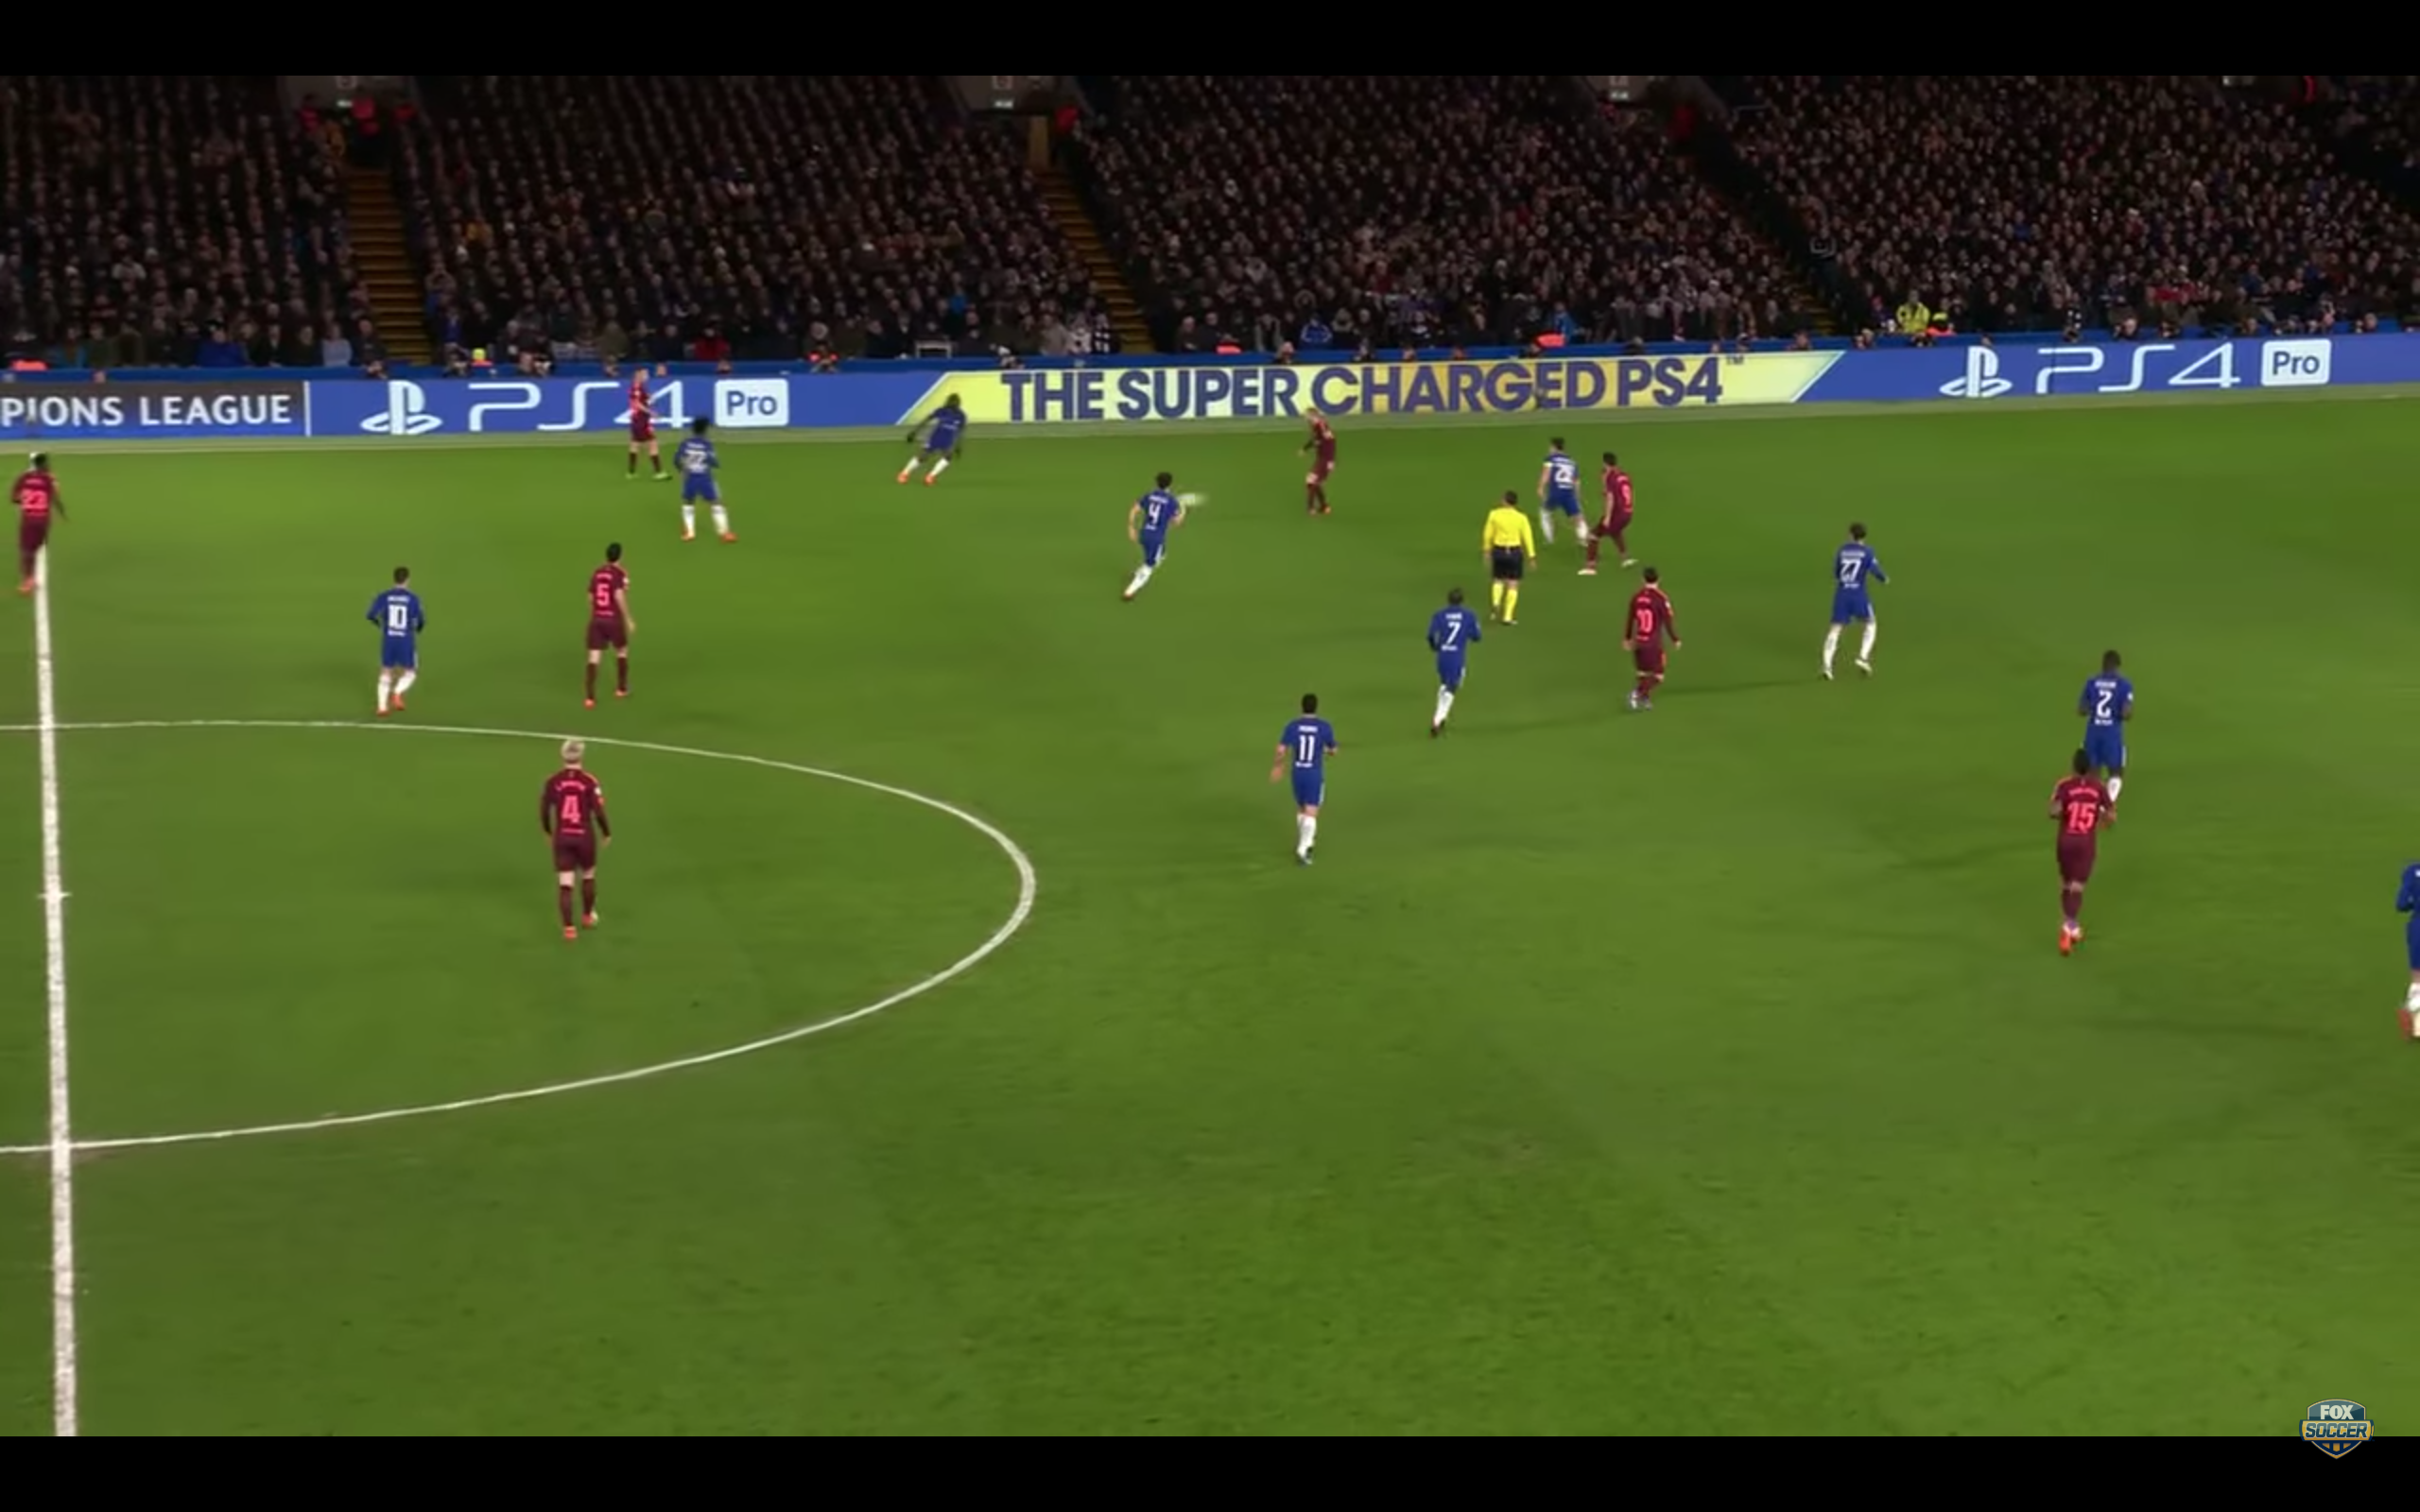referee: (1473, 488, 1537, 631)
soccer ball: (1174, 487, 1211, 514)
soccer player: (527, 734, 618, 946), (2037, 749, 2117, 956), (1262, 687, 1348, 871), (1810, 518, 1897, 687), (354, 559, 434, 724), (1, 450, 83, 601), (1612, 562, 1688, 713), (579, 540, 644, 713), (1569, 447, 1644, 578), (1420, 588, 1480, 743), (2069, 640, 2141, 766), (1119, 473, 1185, 610), (670, 417, 739, 545), (896, 388, 977, 492), (2388, 824, 2420, 1056), (1289, 404, 1348, 524), (612, 372, 672, 488), (1531, 438, 1596, 545)
